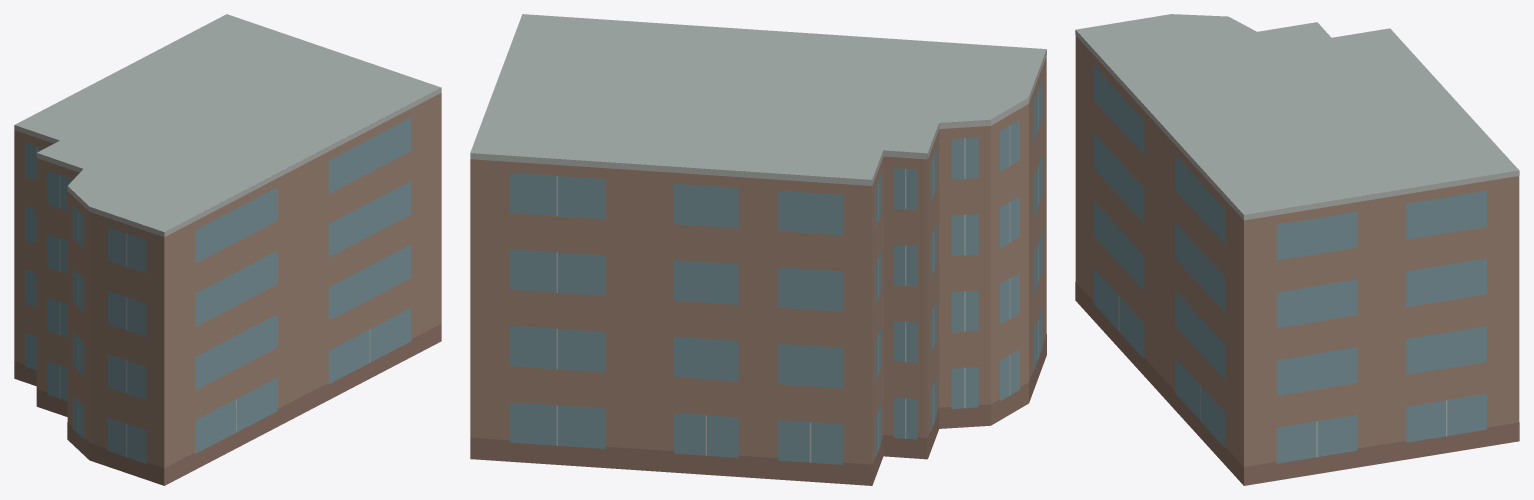
Rendered from residential-eb69a608-1af2-4c46-9585-afebe5180052.glb.
3 views of the same model, side by side, from view 1: azimuth 30°, elevation 25°; view 2: azimuth 150°, elevation 25°; view 3: azimuth 270°, elevation 25° (orthographic). The views are drawn at different scales.
Visible parts, largest first — view 1: residential-eb69a608-1af2-4c46-9585-afebe5180052.tmp; view 2: residential-eb69a608-1af2-4c46-9585-afebe5180052.tmp; view 3: residential-eb69a608-1af2-4c46-9585-afebe5180052.tmp.
Boxes of the visible parts, x1=… form: residential-eb69a608-1af2-4c46-9585-afebe5180052.tmp: x1=14, y1=14, x2=441, y2=485; residential-eb69a608-1af2-4c46-9585-afebe5180052.tmp: x1=470, y1=14, x2=1046, y2=485; residential-eb69a608-1af2-4c46-9585-afebe5180052.tmp: x1=1075, y1=14, x2=1519, y2=485.
Bounding box in the file's own units: 19.43 × 12.2 × 18.13.
